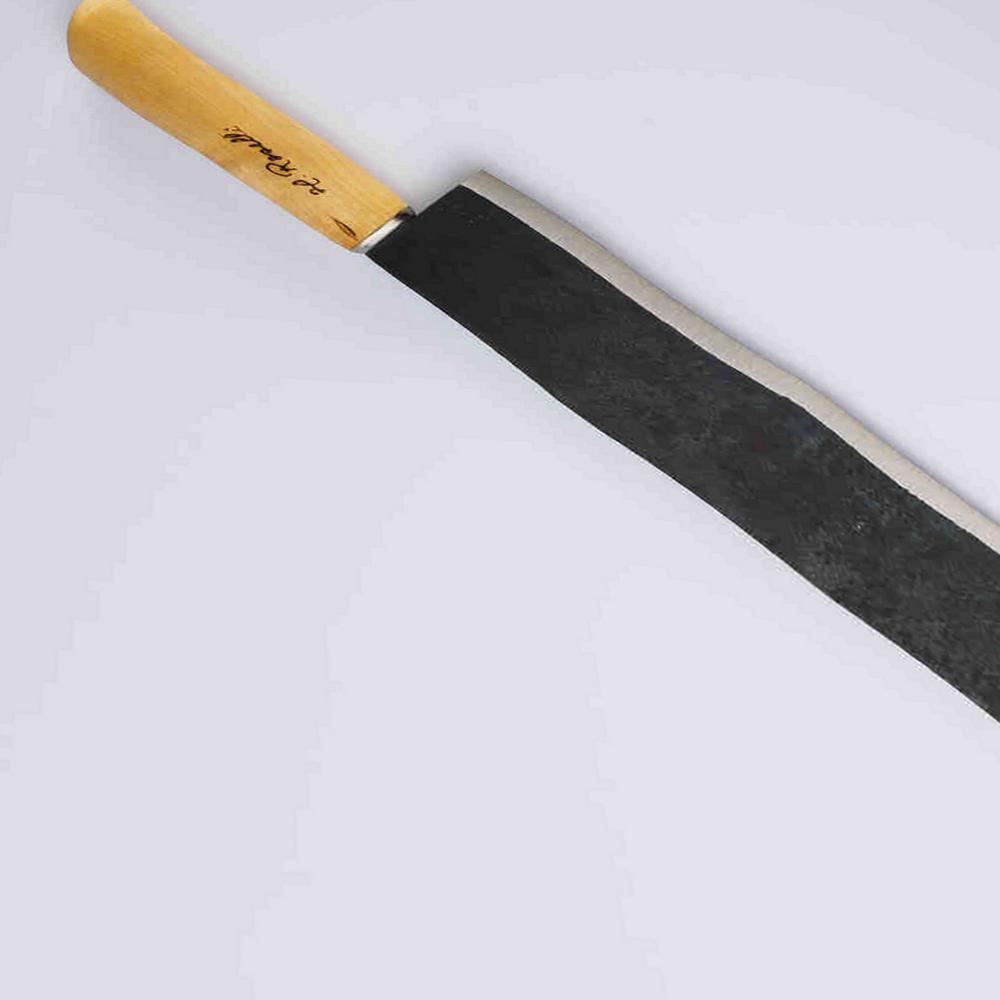knife: (65, 1, 1000, 721)
